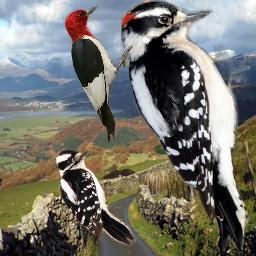Woodpecker: (121, 0, 250, 255), (63, 4, 133, 142), (55, 149, 136, 248)
